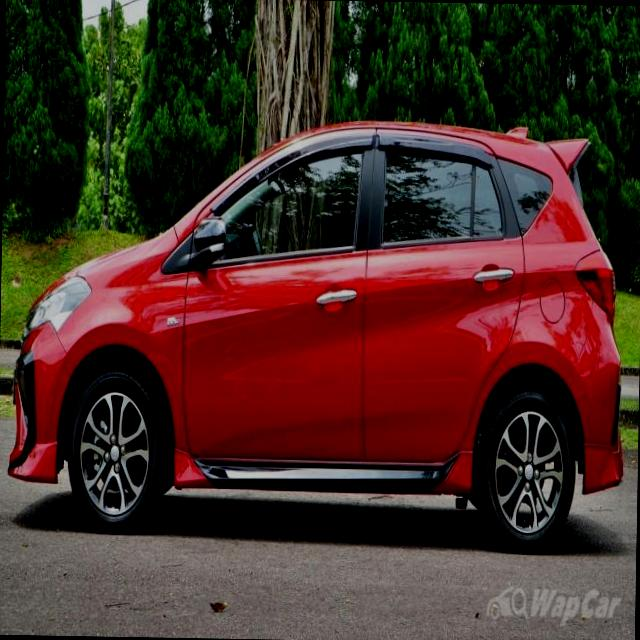PeroduaMyvi: (7, 110, 630, 554)
